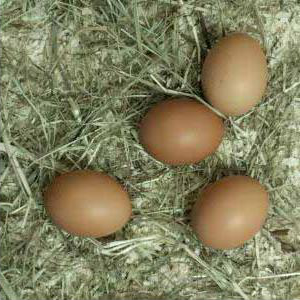egg: (189, 175, 269, 251), (45, 170, 132, 237), (140, 97, 225, 165), (202, 33, 268, 117)
